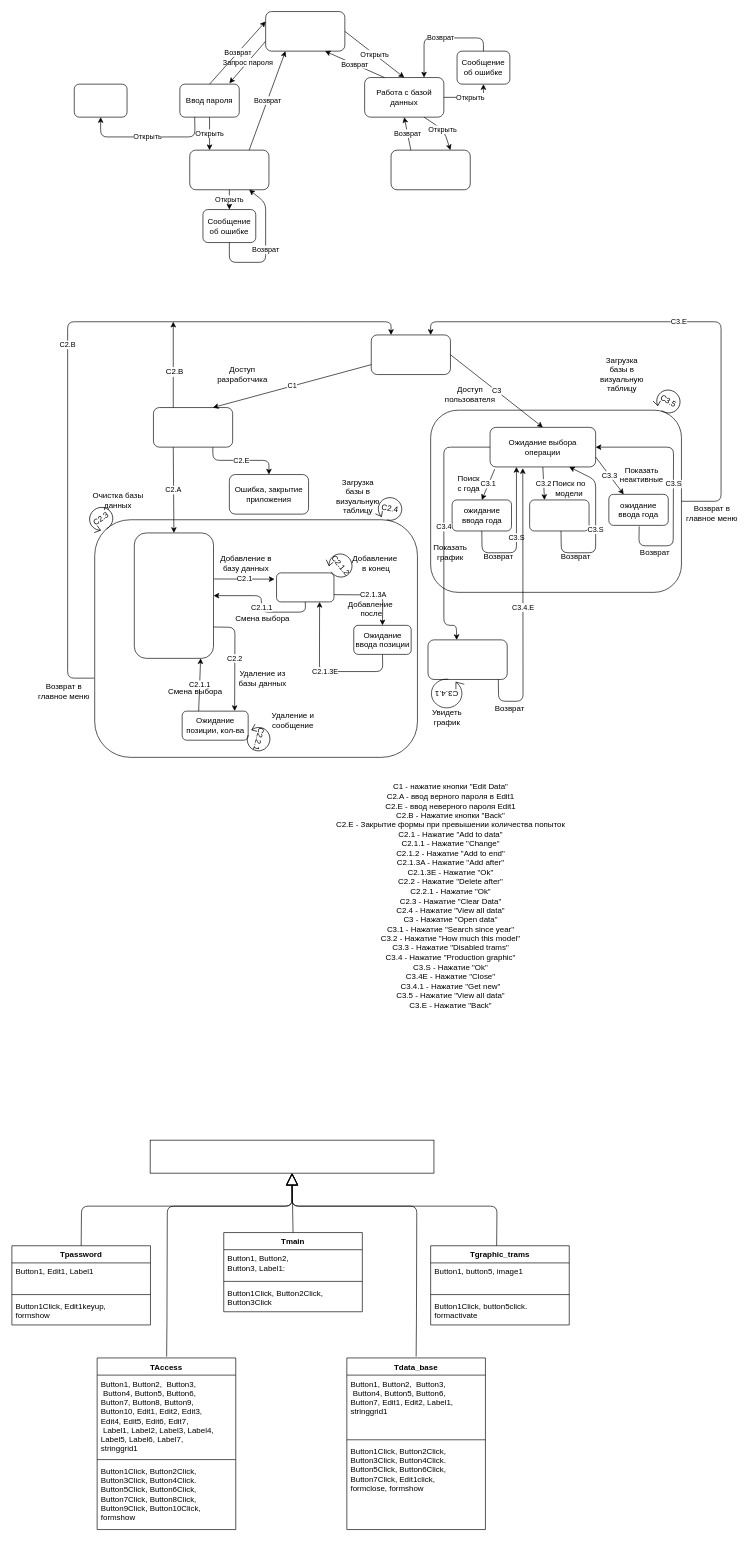
The diagram is 754 pixels wide and 1543 high, and some of its shapes have lost their labels. The centre of each missing label's shape, as x and y in pixels:
"Tform" belongs at [291,1156].
"Выбор доступа к базе" belongs at [410,354].
"Главное меню" belongs at [305,31].
"График" belongs at [430,169].
"ожидание ввода модели" belongs at [559,515].
"Ожидание ввода пароля" belongs at [193,427].
"Ожидание выбора" belongs at [467,659].
"Ожидание выбора команды" belongs at [174,595].
"Ожидание операции" belongs at [305,587].
"Редактирование базы данных" belongs at [229,169].
"Сообщение об ошибке, закрытие" belongs at [100,100].
